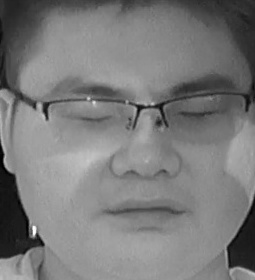blink: (178, 106, 213, 123), (74, 112, 112, 126)
glass: (44, 96, 140, 146), (158, 92, 249, 144)
mouth: (105, 199, 181, 231)
